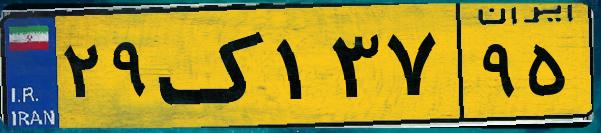1: (270, 28, 330, 110)
2: (57, 26, 110, 100)
3: (330, 28, 385, 110)
5: (525, 38, 570, 115)
7: (385, 28, 445, 110)
9: (475, 38, 525, 113), (110, 28, 158, 98)
ک: (158, 12, 270, 120)
